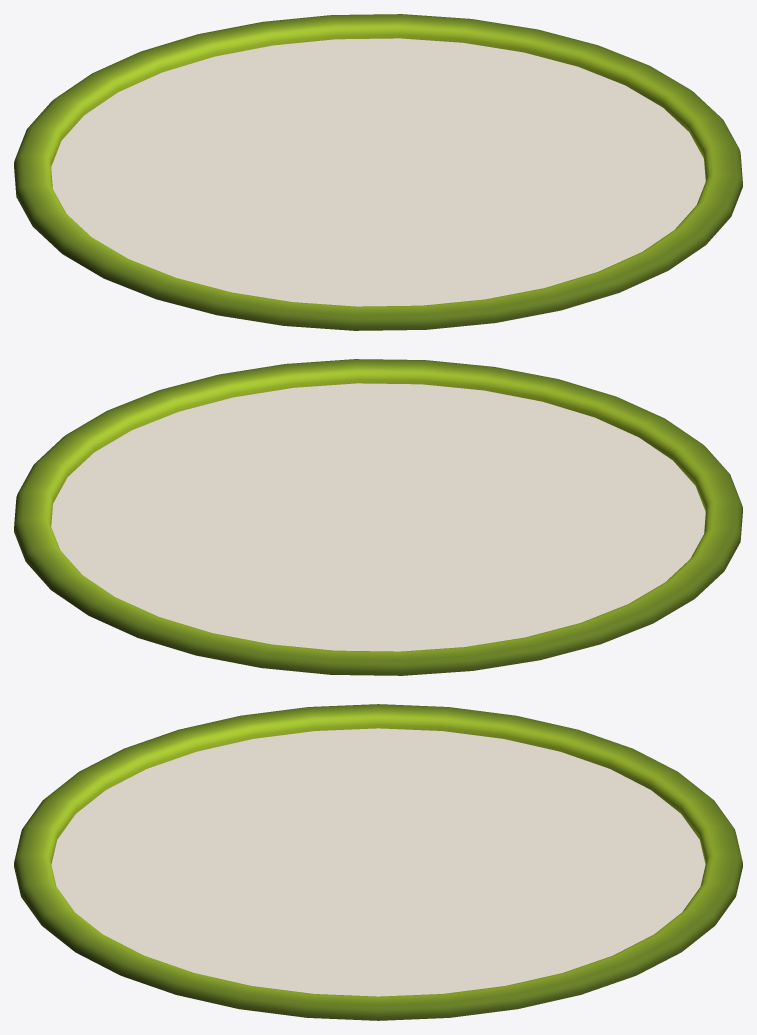
File: Ring.fbx
The picture shows the model from 3 angles, top to bottom: view 1: azimuth 30°, elevation 25°; view 2: azimuth 150°, elevation 25°; view 3: azimuth 270°, elevation 25°; orthographic projection.
Visible parts, largest first — view 1: Ring; view 2: Ring; view 3: Ring.
Boxes of the visible parts, bbox=[...] form: Ring: bbox=[14, 14, 742, 330]; Ring: bbox=[14, 359, 742, 675]; Ring: bbox=[14, 704, 742, 1020].
Size of the model in its own units: 7.74 by 0.134 by 7.74.
